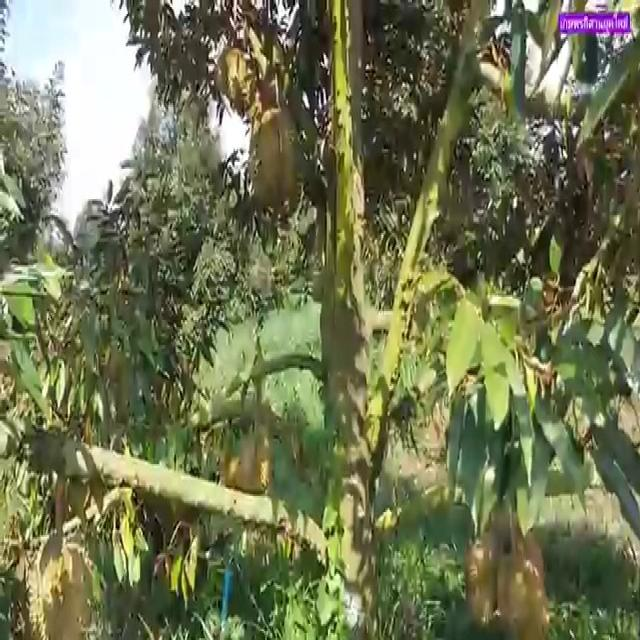durian: (22, 532, 102, 638), (248, 103, 306, 223), (495, 544, 553, 638), (463, 528, 505, 630)
